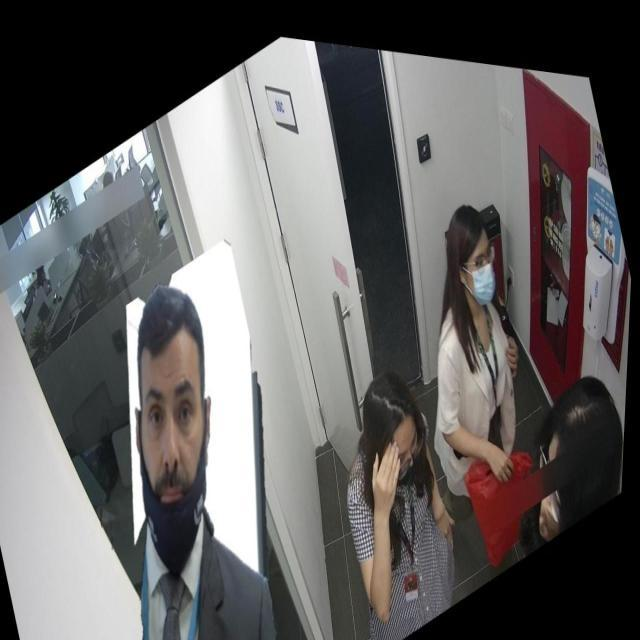hairnet: (119, 336, 245, 582)
